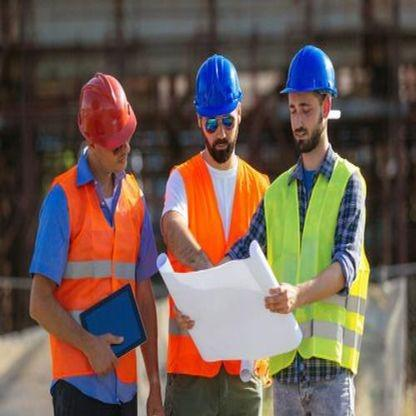helmet: (78, 74, 136, 145), (284, 45, 338, 95), (195, 57, 240, 116)
vest: (267, 157, 370, 377), (51, 166, 144, 381), (178, 156, 267, 256)
